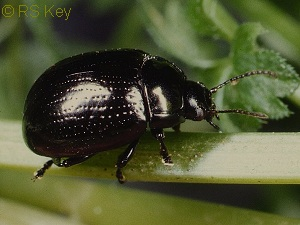Chrysolina_oricalcia: (18, 46, 275, 184)
